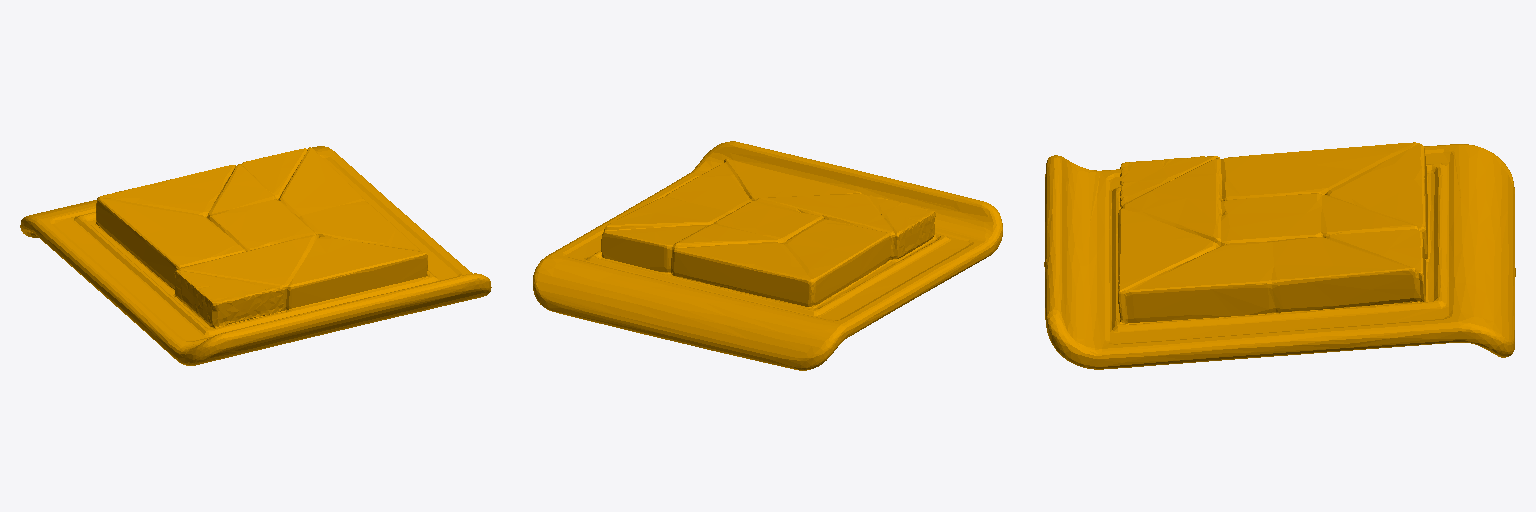
robot.urdf — TWISTED_PUZZLE:

<robot name="TWISTED_PUZZLE">
    <link name="base">
        <inertial>
            <origin xyz="-4.616922483956029e-18 -9.233844967912059e-18 0.0" />
            <mass value="0.0004892337988910839" />
            <inertia ixx="1.1682472229831629e-06" ixy="-4.960983139162657e-09" 
                     ixz="2.8773405343749487e-09" iyy="9.65828648580938e-07" 
                     iyz="-5.1989848649218185e-08" izz="2.0829956666277844e-06" />
        </inertial>
        <visual>
            <origin xyz="0 0 0" />
            <geometry>
                <mesh filename="visual_geometry.obj" />
            </geometry>
        </visual>
        <collision>
            <origin xyz="0 0 0" />
            <geometry>
                <mesh filename="collision_geometry.obj" />
            </geometry>
        </collision>
    </link>
</robot>

--- Facts derived from the render (not from the file) ---
Views: 3 orthographic renders of the robot side by side, from view 1: azimuth 30°, elevation 25°; view 2: azimuth 150°, elevation 25°; view 3: azimuth 270°, elevation 25°.
Model TWISTED_PUZZLE with 1 links and 0 joints (none), rooted at base, posed every joint at zero.
Links seen in each view (by area): view 1: base; view 2: base; view 3: base.
Link boxes in pixels (<box>): base: <box>20,146,491,365</box>; base: <box>533,141,1002,370</box>; base: <box>1044,142,1515,369</box>.
Bounding box of the posed robot: 0.1745 × 0.1887 × 0.0351 m (x, y, z).
1 mesh visuals loaded from 1 distinct referenced files (1 OBJ).